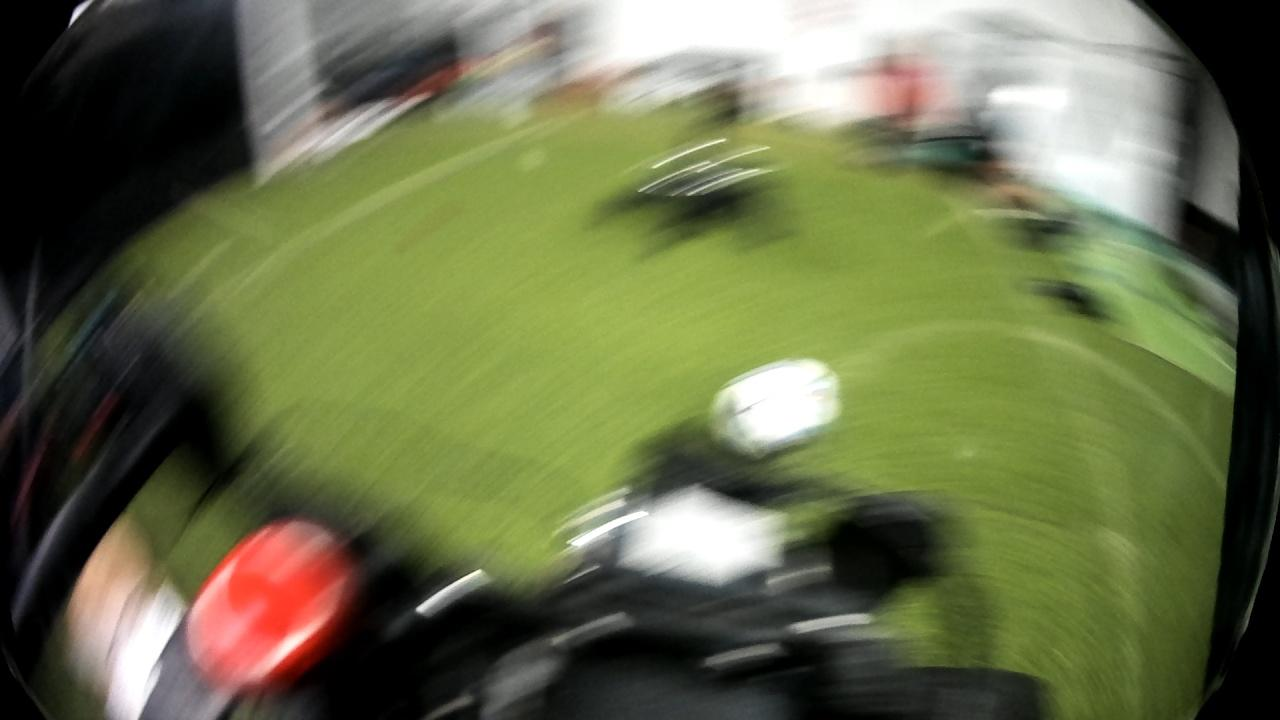ball: (704, 355, 845, 459)
